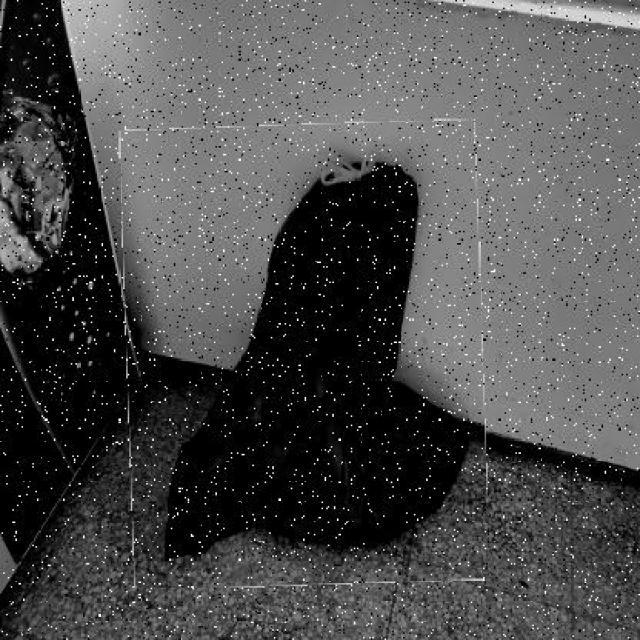waste: (122, 122, 486, 587)
